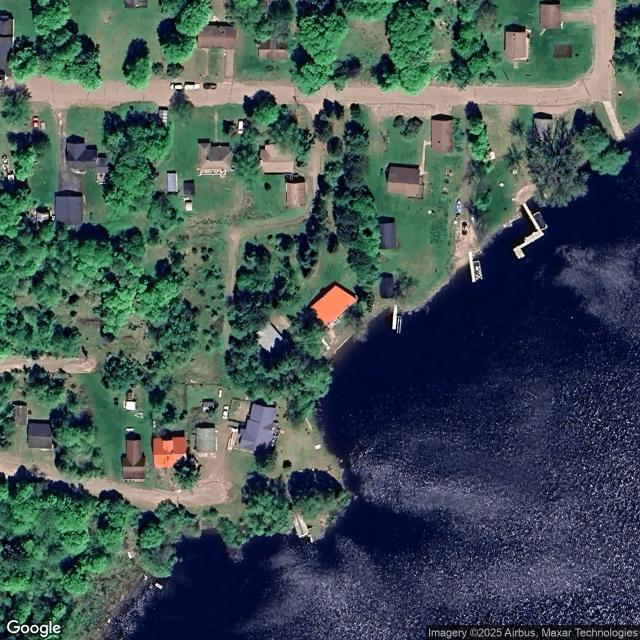Propane: (125, 427, 135, 431), (218, 389, 222, 398)
